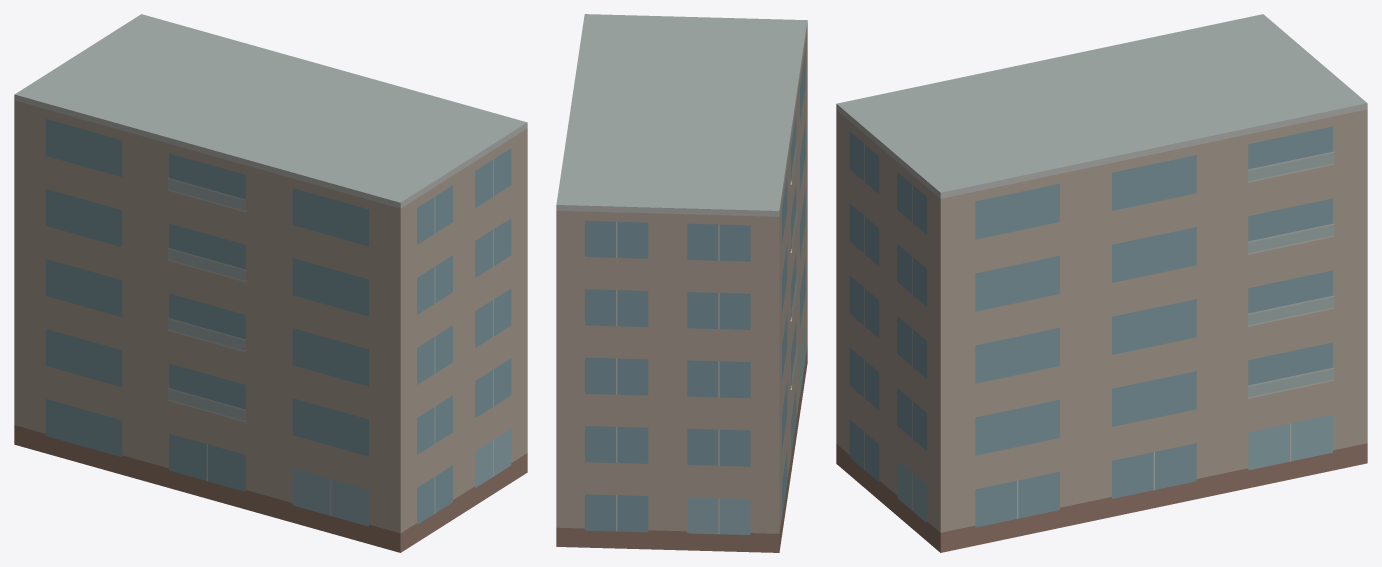
File: survey-upis-32700657.glb
3 views of the same model, side by side, from view 1: azimuth 30°, elevation 25°; view 2: azimuth 150°, elevation 25°; view 3: azimuth 270°, elevation 25° (orthographic). The views are drawn at different scales.
Parts seen in each view (by area): view 1: survey-upis-32700657.tmp; view 2: survey-upis-32700657.tmp; view 3: survey-upis-32700657.tmp.
Part boxes in pixels (left/top/right/bottom): survey-upis-32700657.tmp: left=14, top=14, right=527, bottom=552; survey-upis-32700657.tmp: left=556, top=14, right=807, bottom=552; survey-upis-32700657.tmp: left=836, top=14, right=1367, bottom=552.
Size of the model in its own units: 15.34 by 14.4 by 19.26.
